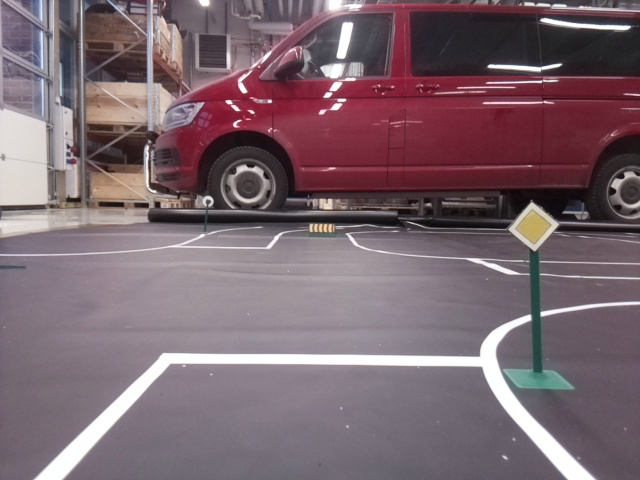Priority: (508, 202, 560, 254)
